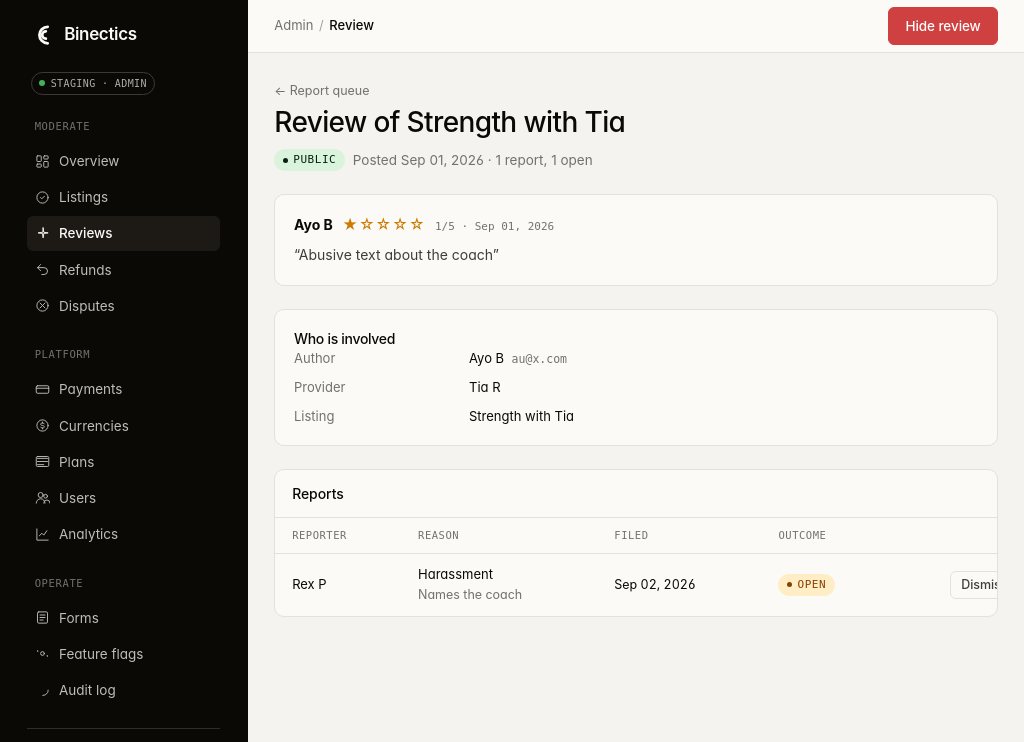
Test case: admin review detail › hides the review with a note and reloads
The image size is (1024, 742).
Click the button "Hide review" at x=943, y=26, box [888,7,998,45]
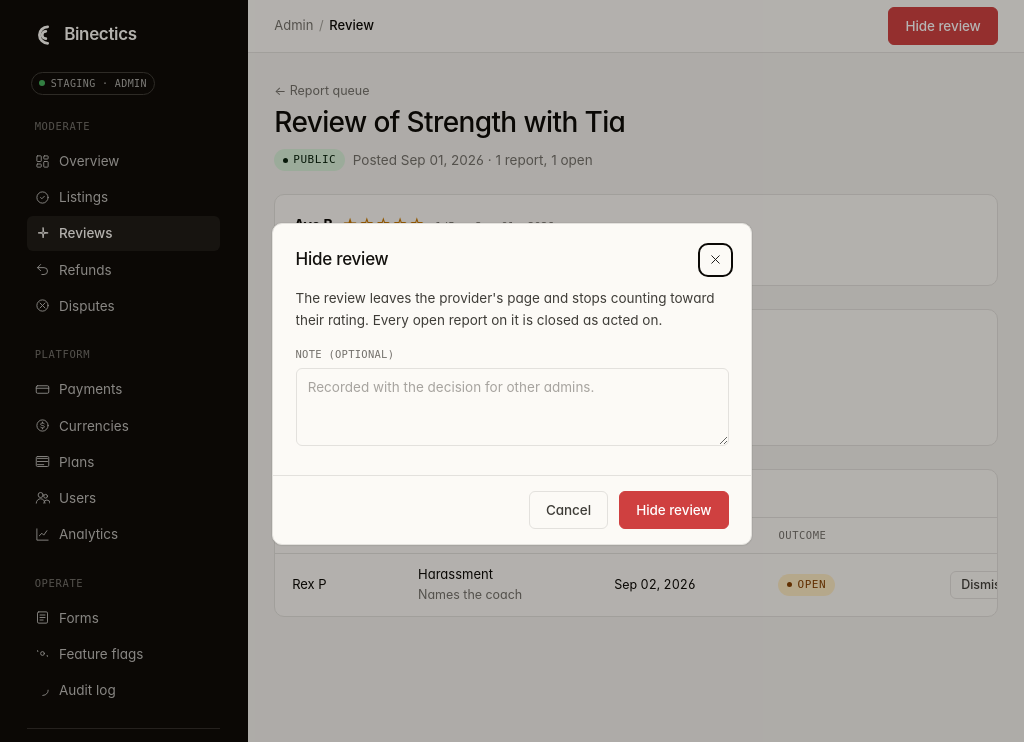
Type "Harassment policy" into the text box labelled "Note (optional)" at x=512, y=407, box [296,368,728,446]
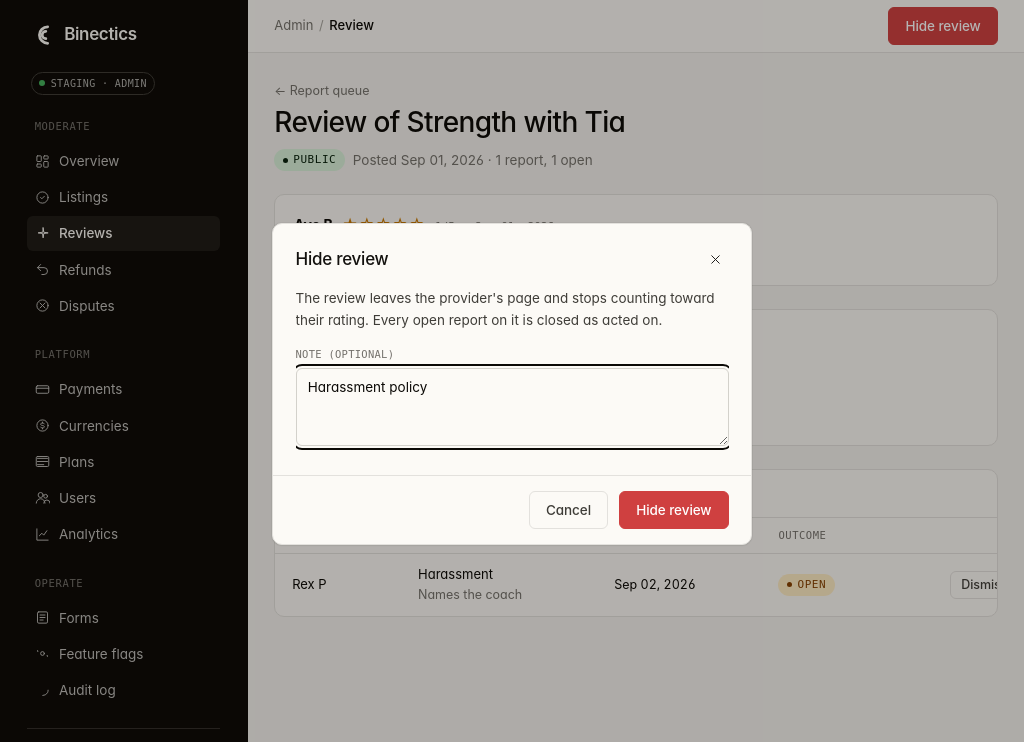
Click the button "Hide review" at x=674, y=510, box [619,491,728,529]
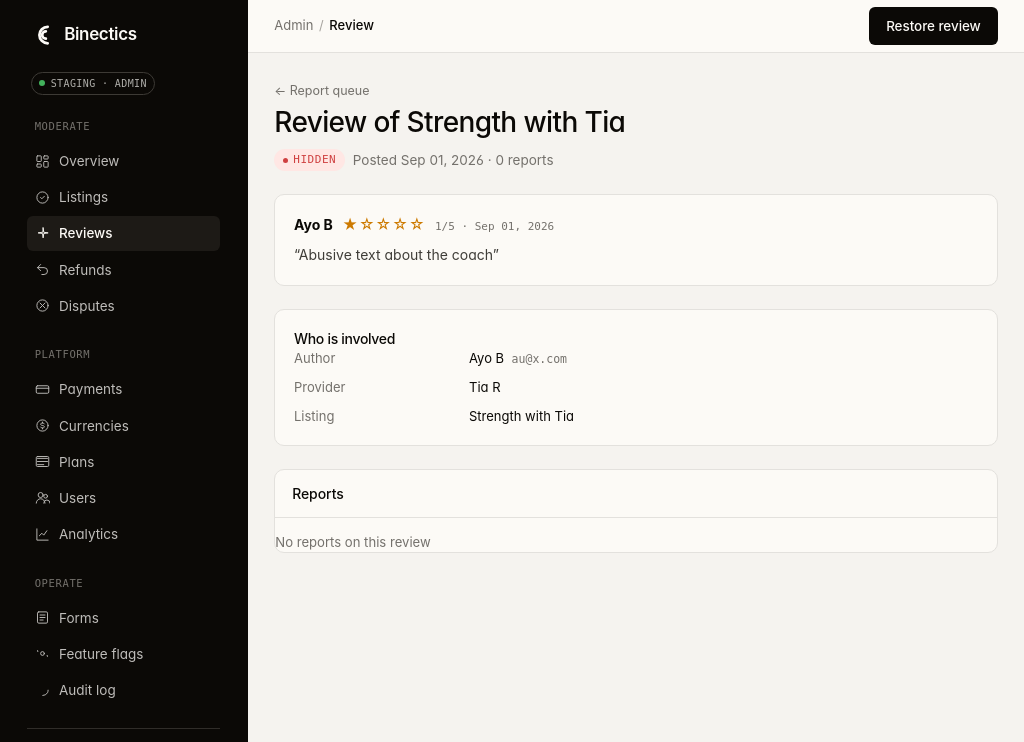
expect the button "Restore review" is shown: met, box [869,7,998,45]
